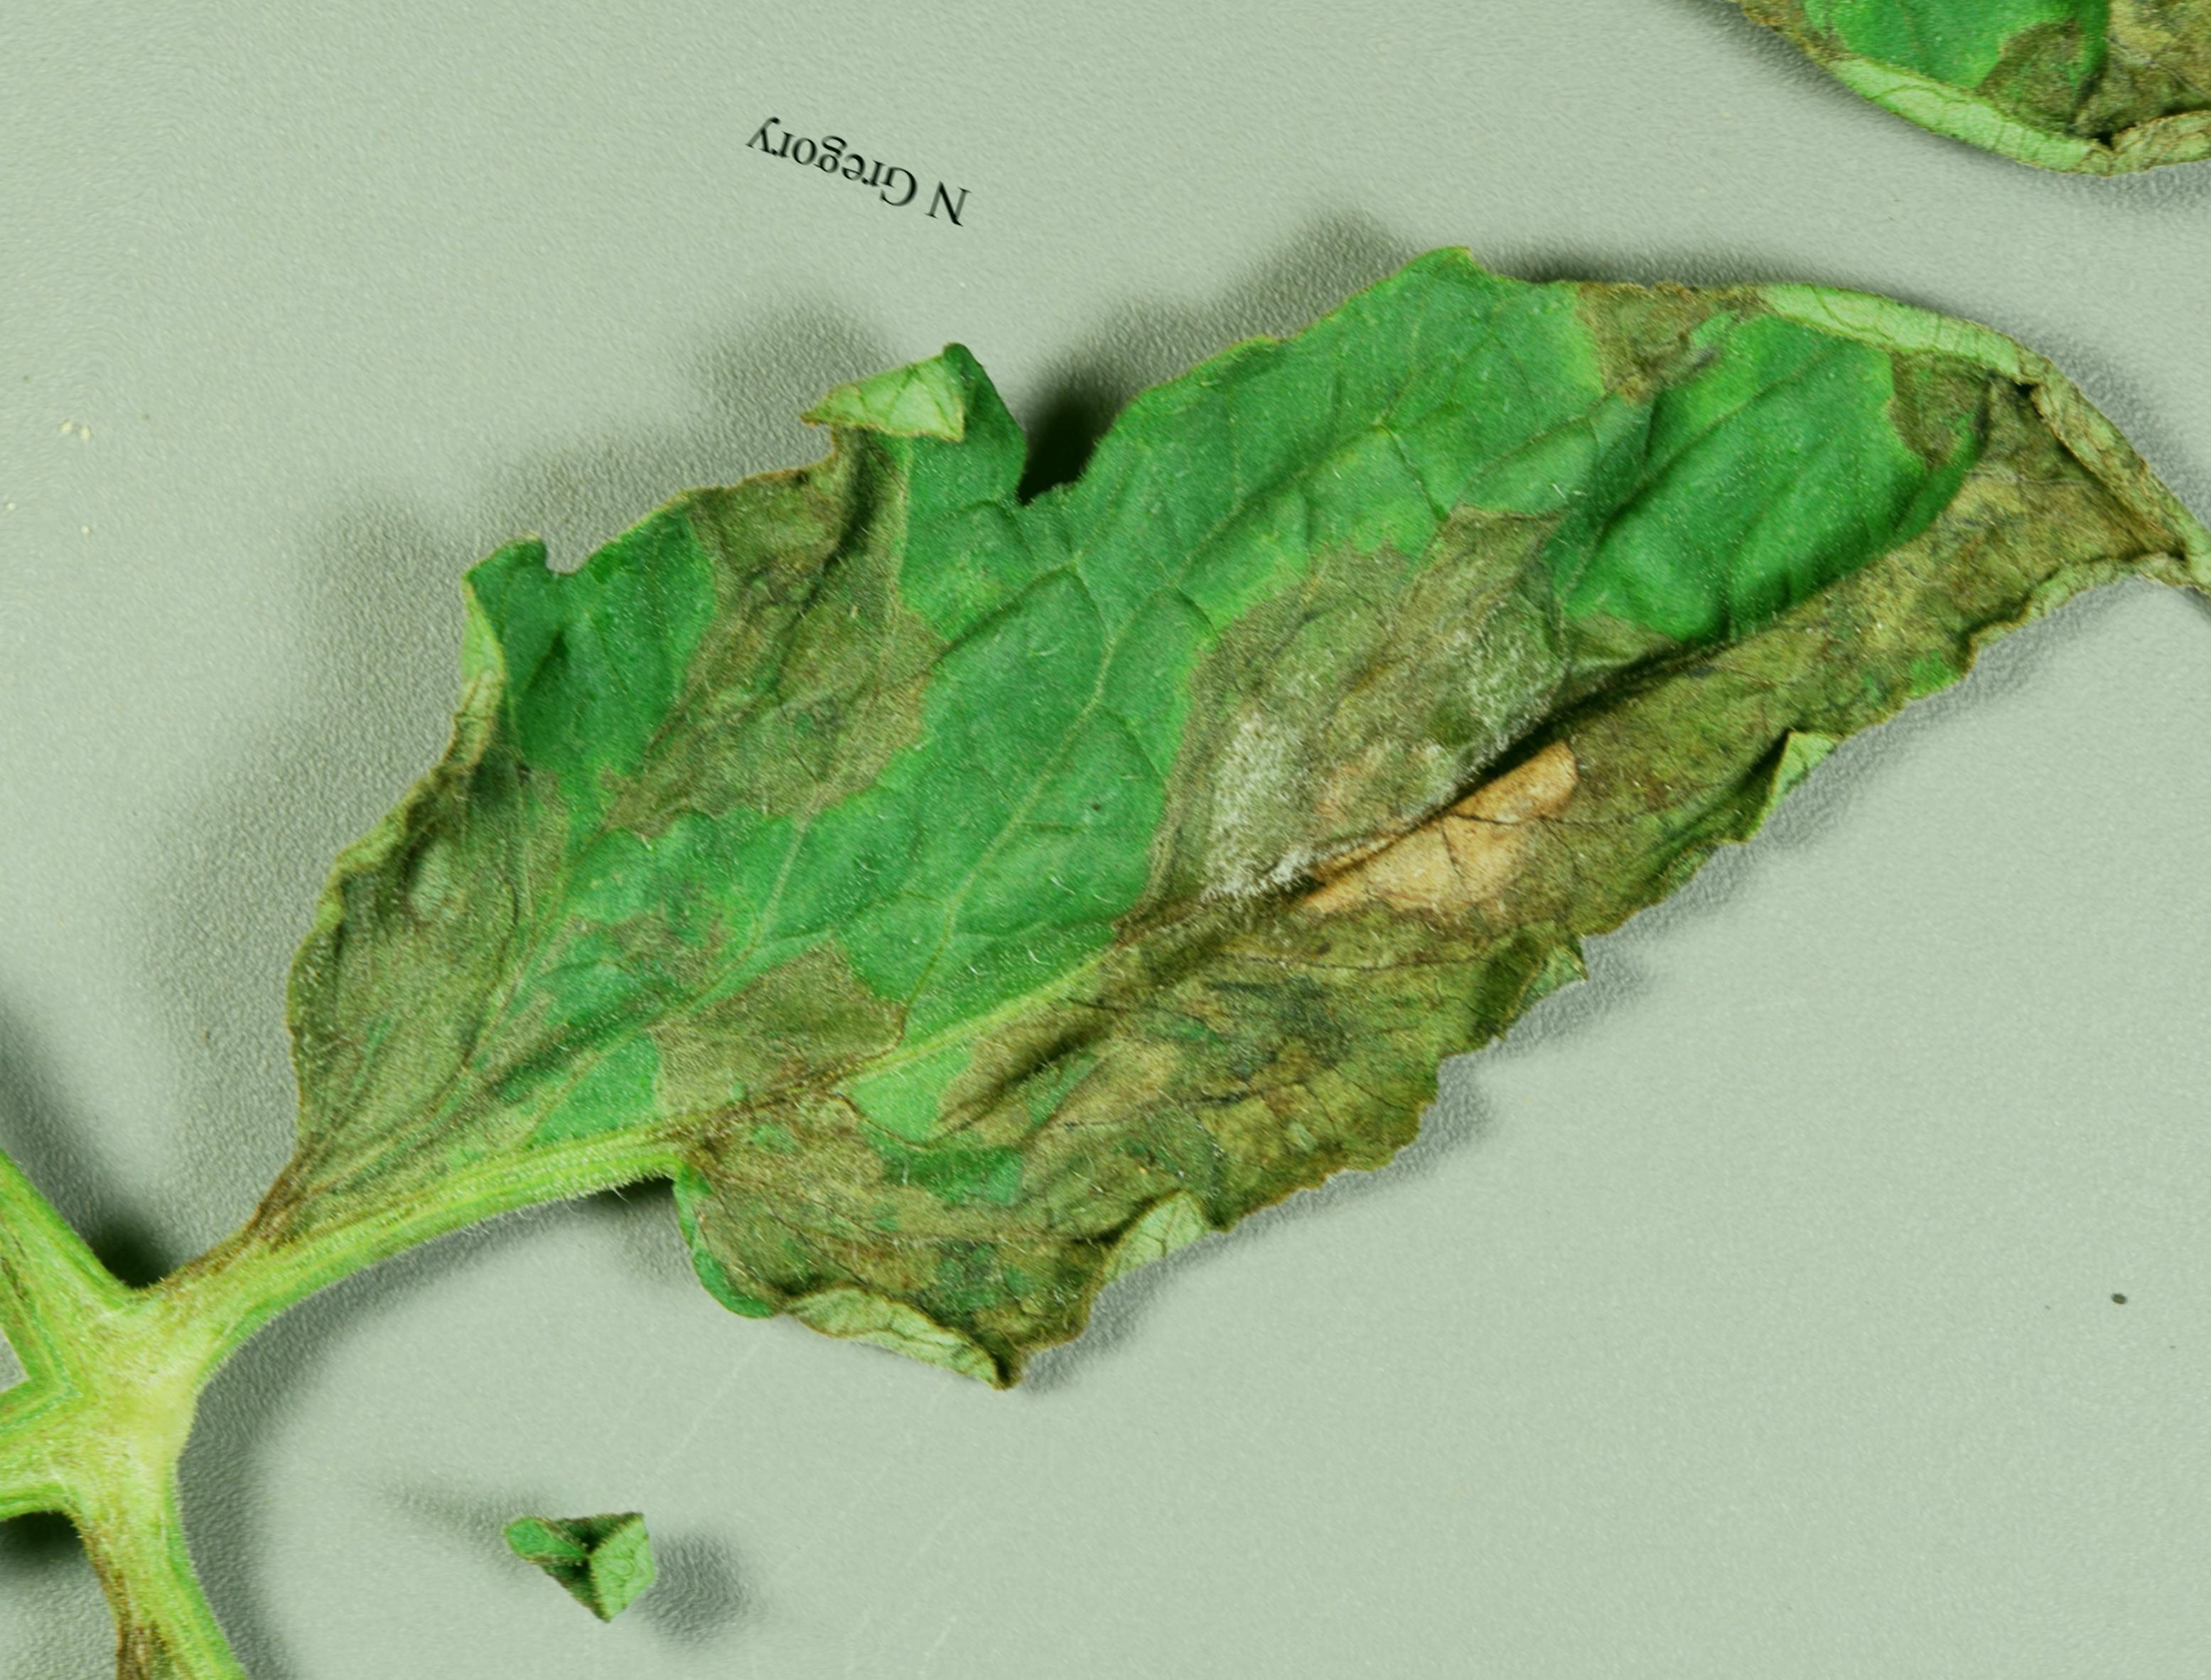Tomato leaf late blight: (217, 0, 2211, 1680)
